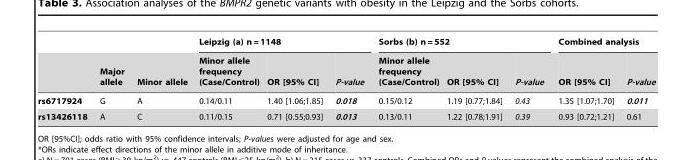table: (37, 37, 656, 120)
table column: (371, 37, 442, 120), (192, 37, 262, 120), (551, 37, 619, 120), (262, 37, 327, 120), (442, 37, 507, 120), (130, 37, 192, 120), (37, 37, 92, 120), (327, 37, 371, 120), (507, 37, 551, 120), (92, 37, 130, 120), (619, 37, 656, 120)
table column header: (37, 37, 656, 91)
table row: (37, 50, 656, 91), (37, 91, 656, 108), (37, 37, 656, 50), (37, 108, 656, 120)
table spanning cell: (130, 37, 192, 91), (371, 37, 551, 50), (192, 37, 371, 50), (92, 37, 130, 91), (551, 37, 656, 50)
